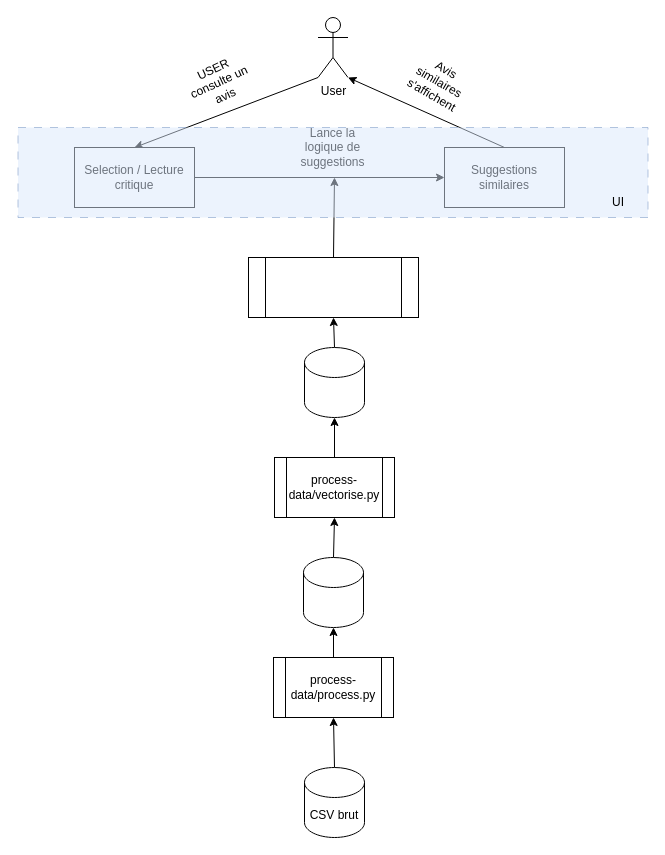
Image size: 665x855. Some labels were removed from this diagram. The shapes that lost their labels are listed below. From the top down, each one's centre as x and y in pixels, then its label:
At pixel 333 287: "modelisation/model.py".
At pixel 334 382: "TF-IDF matrix".
At pixel 333 592: "CSV clean".
